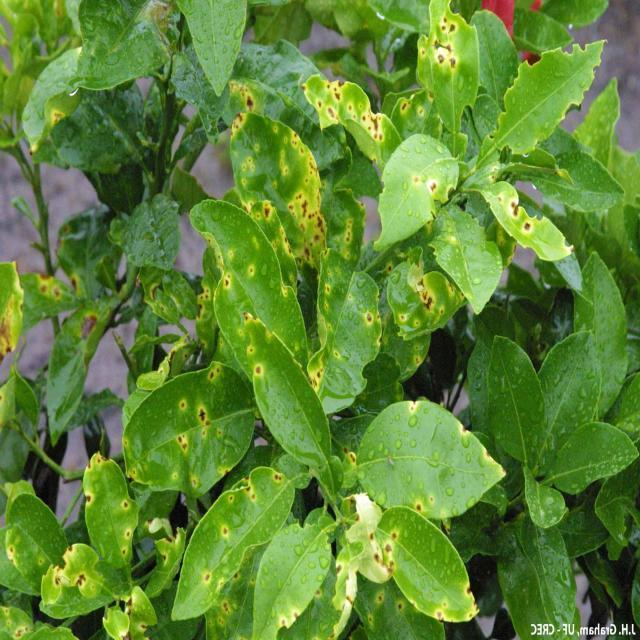Bacterial Spot: (181, 469, 295, 627), (232, 112, 328, 260), (309, 212, 375, 384), (158, 366, 239, 464), (359, 482, 434, 586), (85, 443, 134, 562), (310, 85, 386, 143), (418, 6, 471, 84), (398, 274, 442, 326)
Healthy Leaf: (488, 31, 616, 158), (566, 252, 630, 408), (484, 324, 546, 462), (540, 423, 638, 494), (116, 188, 180, 278)
